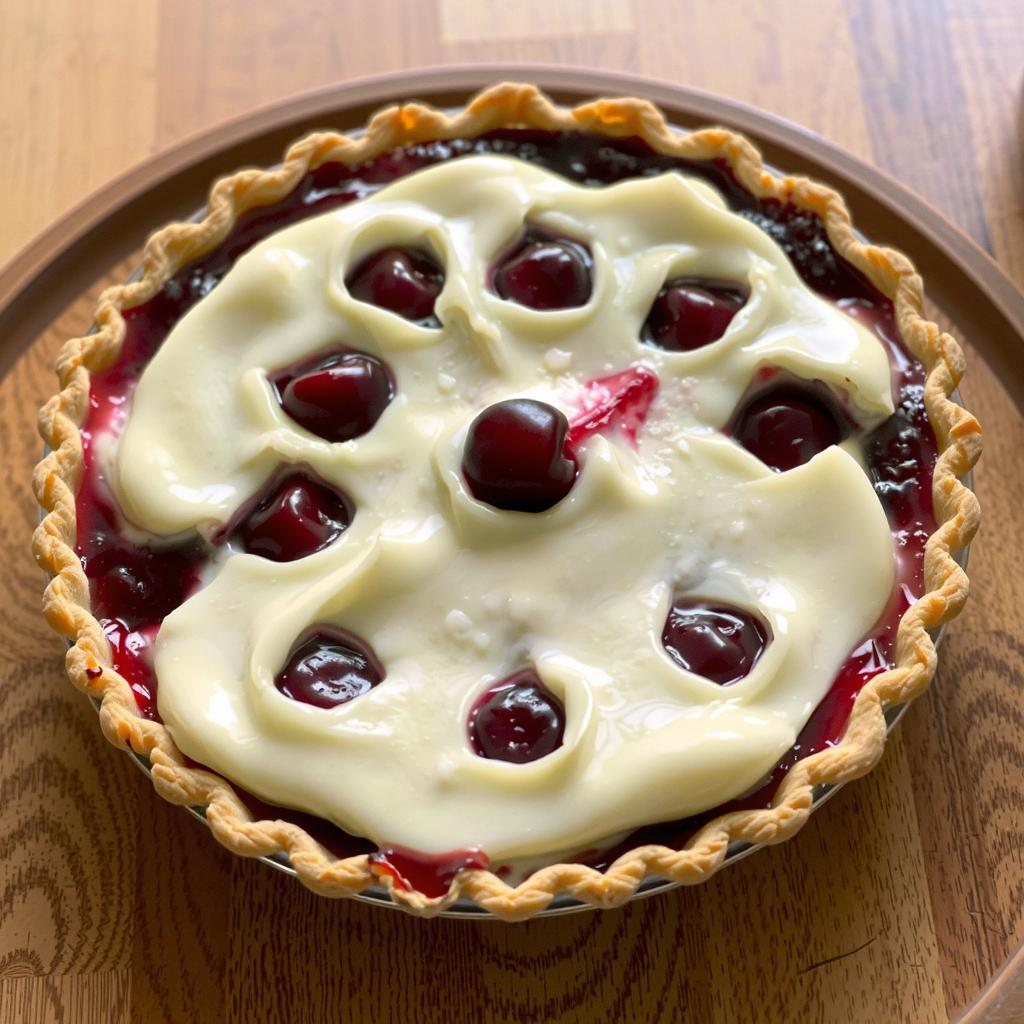pie: (30, 79, 980, 931)
